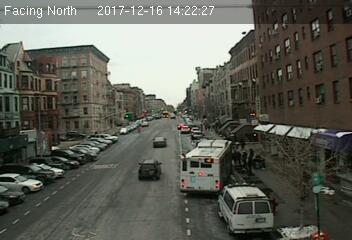bus: (177, 139, 236, 195)
car: (136, 159, 165, 180), (152, 135, 168, 147), (180, 125, 190, 133)
pedestrian: (235, 149, 242, 170), (242, 151, 248, 168)
police: (216, 183, 276, 235)
